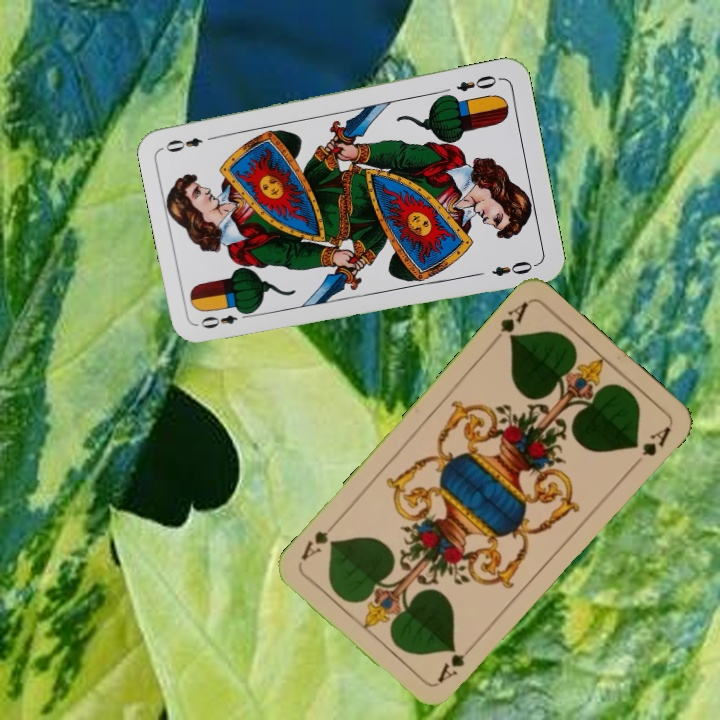EO: (197, 306, 254, 332), (452, 71, 499, 94)
GA: (487, 297, 531, 348), (433, 638, 479, 686)
